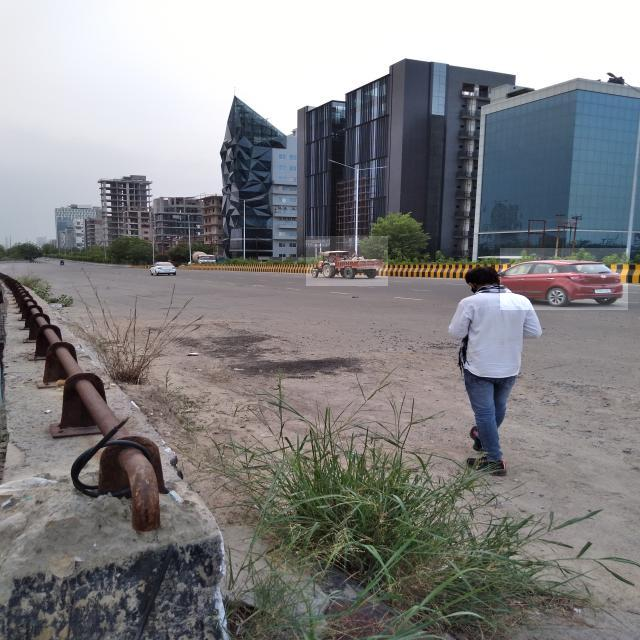Car: (501, 248, 628, 310)
Tractot: (306, 236, 388, 286)
